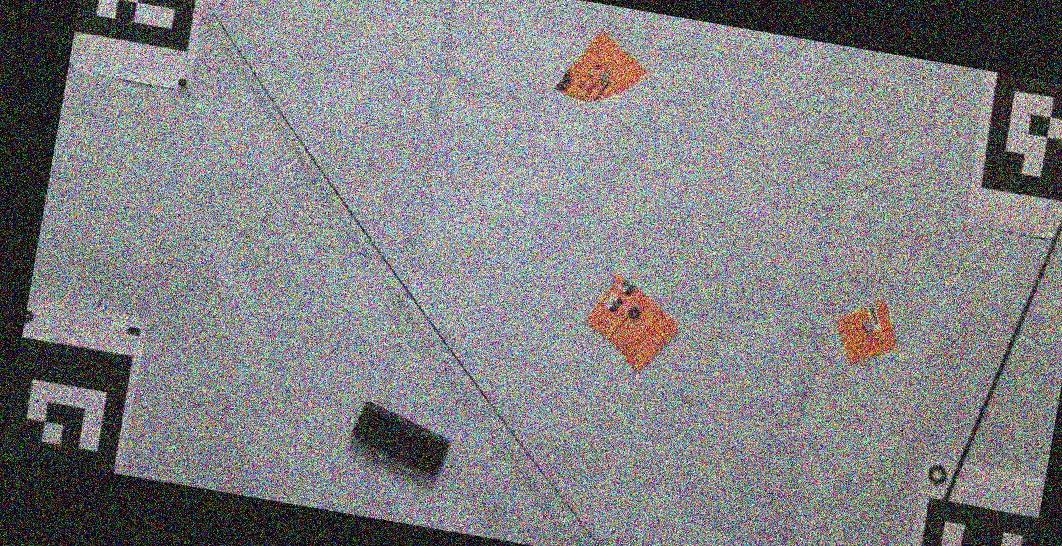obstacle: (585, 276, 679, 375), (349, 400, 452, 481), (558, 31, 649, 101), (836, 300, 898, 368)
